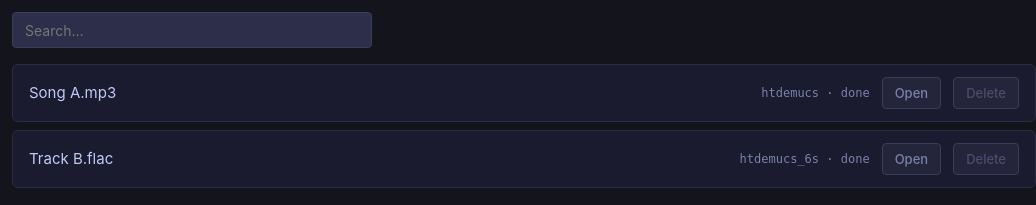
Scenario: Library › filters by filename
Type "track" into the field with placeholder "Search…" at point(192, 30), box [12,12,372,48]
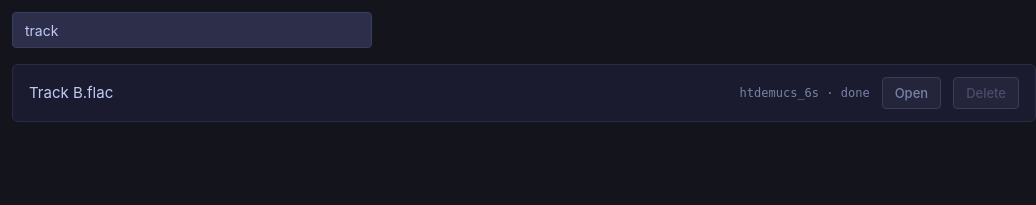
Expected: the text "Track B.flac" is shown, [29,83,113,102]
Expected: the text "Song A.mp3" is gone
